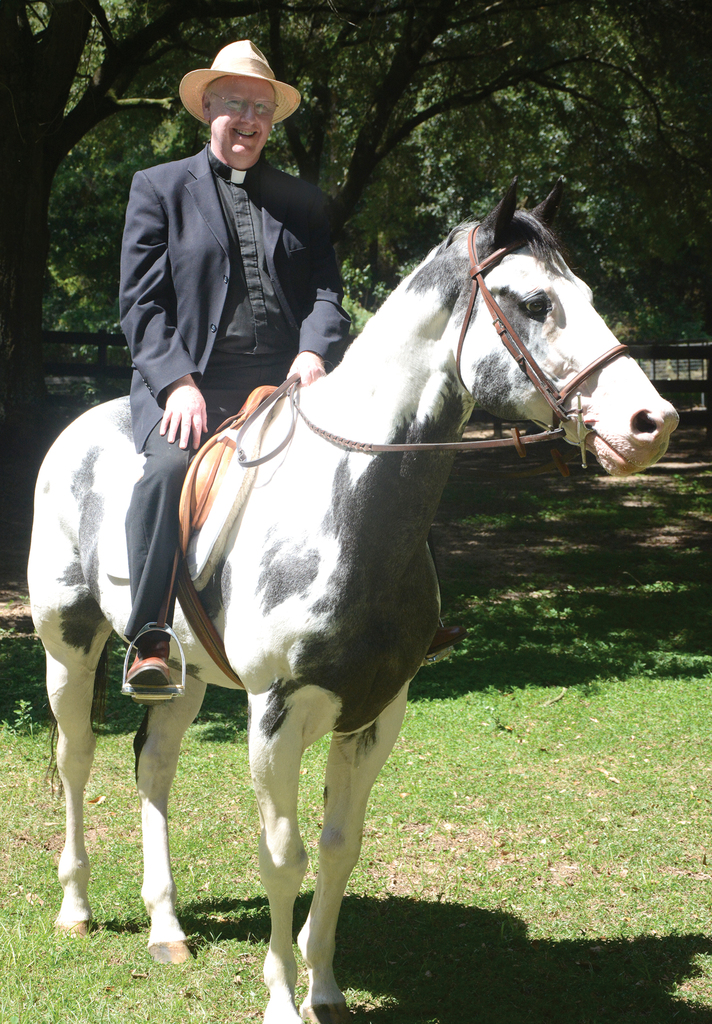horse: (27, 175, 679, 1023)
